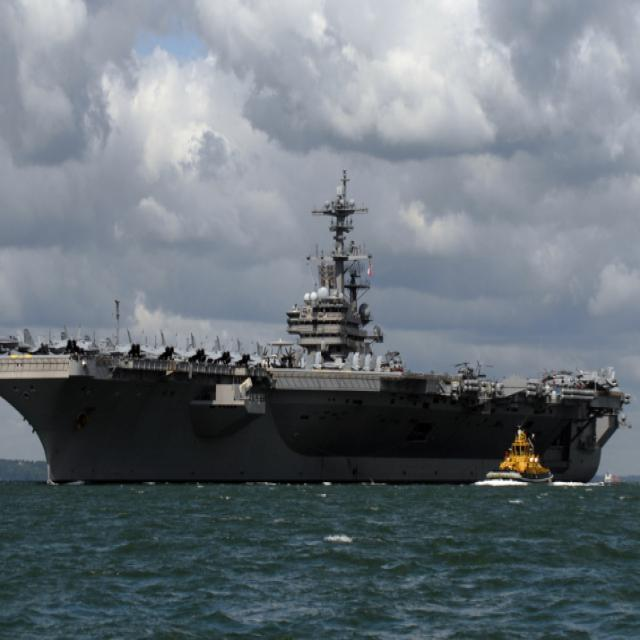Portanaves: (1, 163, 634, 498)
